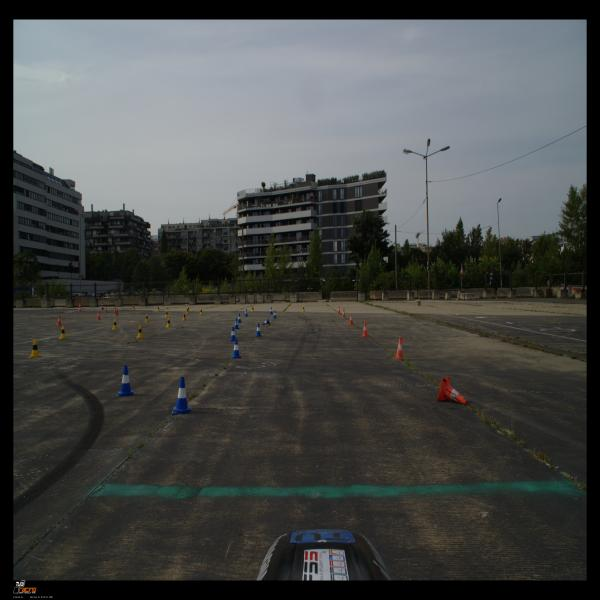blue_cone: (172, 377, 192, 414), (116, 365, 136, 397), (229, 339, 242, 359), (254, 323, 262, 337), (230, 327, 236, 341), (234, 318, 239, 329), (263, 318, 270, 325), (238, 314, 242, 323), (273, 310, 277, 318), (244, 309, 248, 317), (270, 308, 273, 314)
large_orange_cone: (78, 303, 82, 312), (101, 302, 104, 310)
orange_cone: (437, 376, 467, 406), (394, 337, 405, 360), (361, 321, 369, 337), (56, 314, 62, 326), (349, 313, 354, 325), (96, 311, 101, 320), (342, 308, 346, 318), (337, 306, 341, 314), (115, 308, 119, 316), (104, 306, 108, 313), (113, 307, 116, 314)
yellow_cone: (28, 339, 43, 358), (59, 326, 67, 340), (136, 324, 144, 338), (112, 319, 119, 330), (166, 317, 172, 328), (144, 314, 150, 322), (182, 312, 187, 321), (165, 310, 169, 317), (199, 308, 203, 315), (302, 305, 305, 312), (186, 307, 189, 314), (132, 305, 136, 310), (251, 306, 254, 312), (157, 306, 160, 312), (188, 306, 190, 312)
